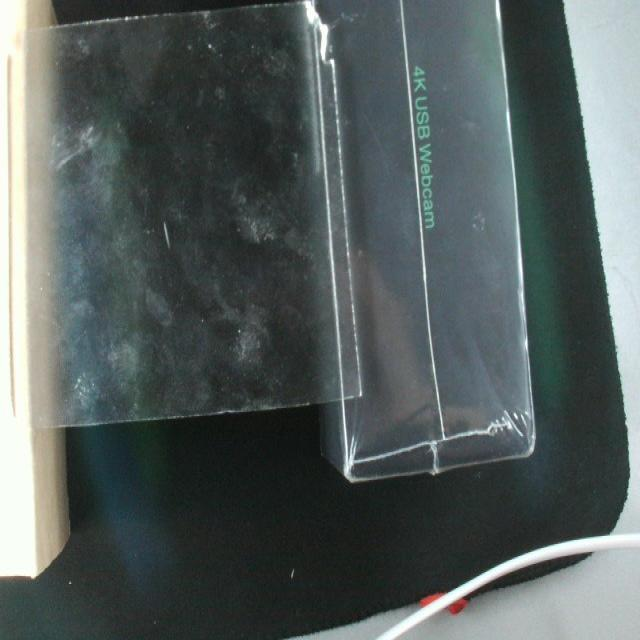edge_chip: (296, 3, 342, 70), (211, 400, 244, 422)
scratch: (156, 212, 175, 255)
